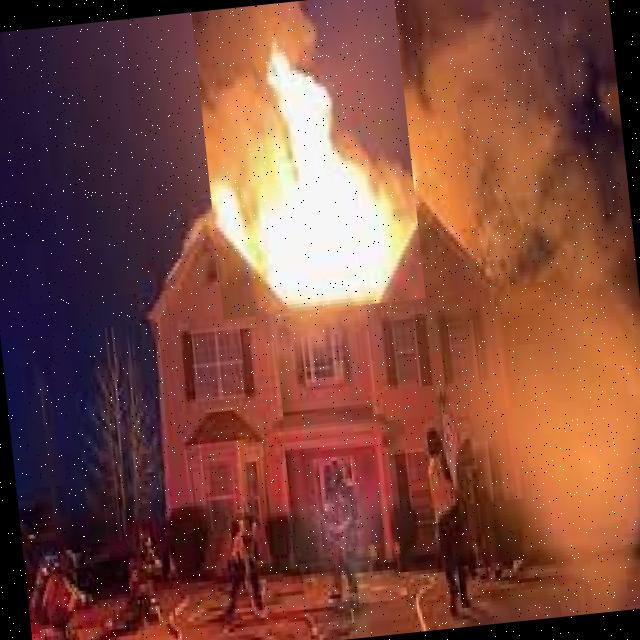fire: (191, 0, 425, 319)
